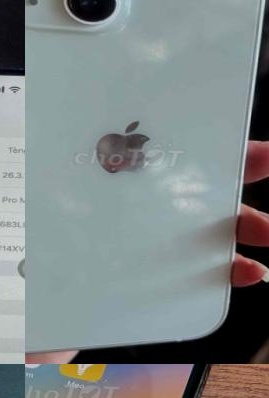scratch: (87, 116, 158, 176)
